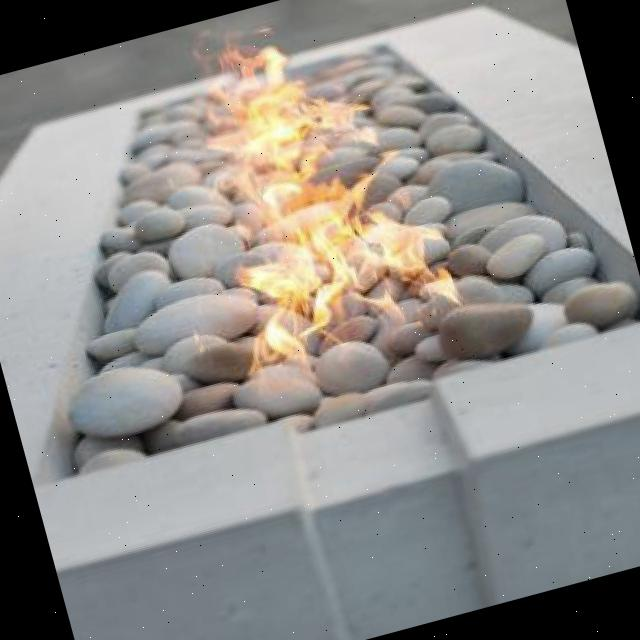fire: (174, 0, 446, 377)
